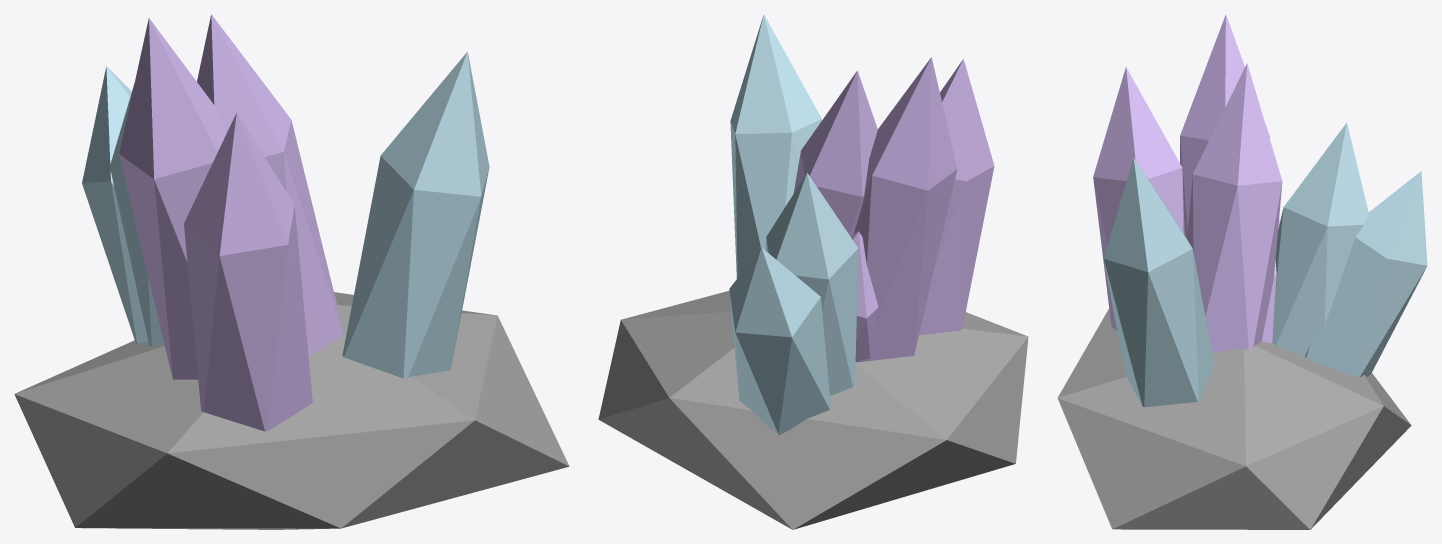
File: Crystal_Cluster.fbx
The picture shows the model from 3 angles, left to right: view 1: azimuth 30°, elevation 25°; view 2: azimuth 150°, elevation 25°; view 3: azimuth 270°, elevation 25°; orthographic projection. The views are drawn at different scales.
Visible parts, largest first — view 1: Crystal_Cluster_Mesh; view 2: Crystal_Cluster_Mesh; view 3: Crystal_Cluster_Mesh.
Boxes of the visible parts, x1=… form: Crystal_Cluster_Mesh: x1=14, y1=14, x2=569, y2=529; Crystal_Cluster_Mesh: x1=598, y1=14, x2=1028, y2=529; Crystal_Cluster_Mesh: x1=1057, y1=14, x2=1427, y2=529.
Size of the model in its own units: 0.9936 by 1.15 by 0.8965.
